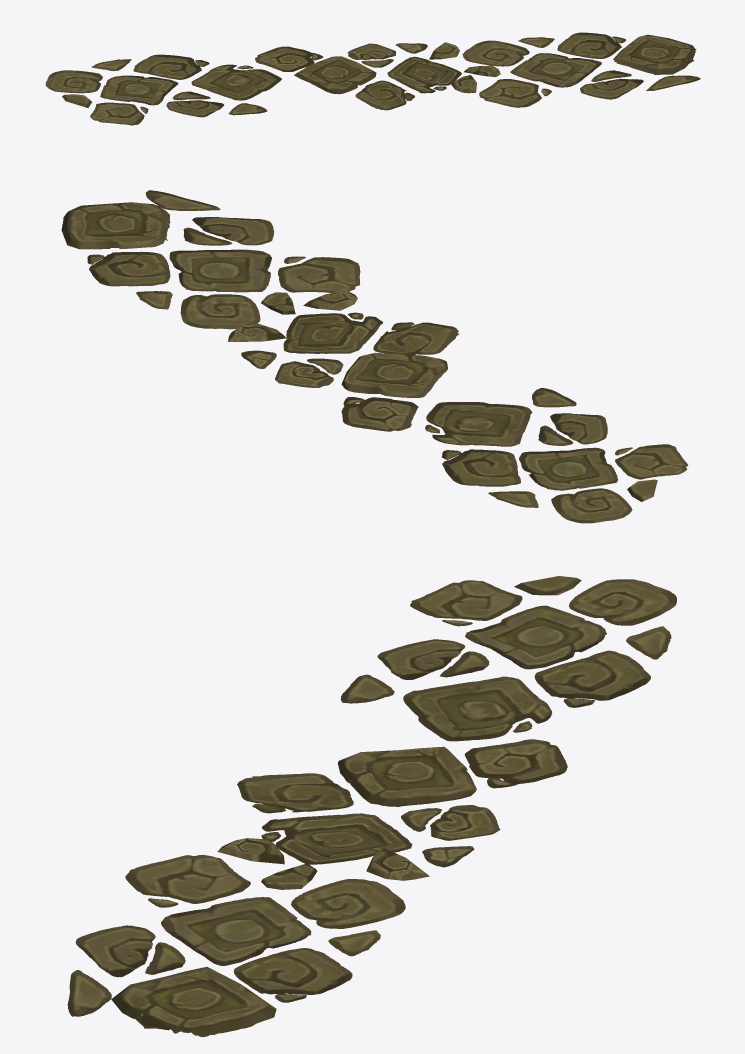
File: pavers_s_02.fbx
3 renders of one model, top to bottom at view 1: azimuth 30°, elevation 25°; view 2: azimuth 150°, elevation 25°; view 3: azimuth 270°, elevation 25°, orthographic. The views are drawn at different scales.
Parts seen in each view (by area): view 1: obj0.115; view 2: obj0.115; view 3: obj0.115.
Part boxes in pixels (x1,y1,x2,y2): obj0.115: [45, 32, 700, 125]; obj0.115: [61, 190, 688, 523]; obj0.115: [67, 576, 676, 1036].
Size of the model in its own units: 15.42 by 0.1205 by 10.02.
